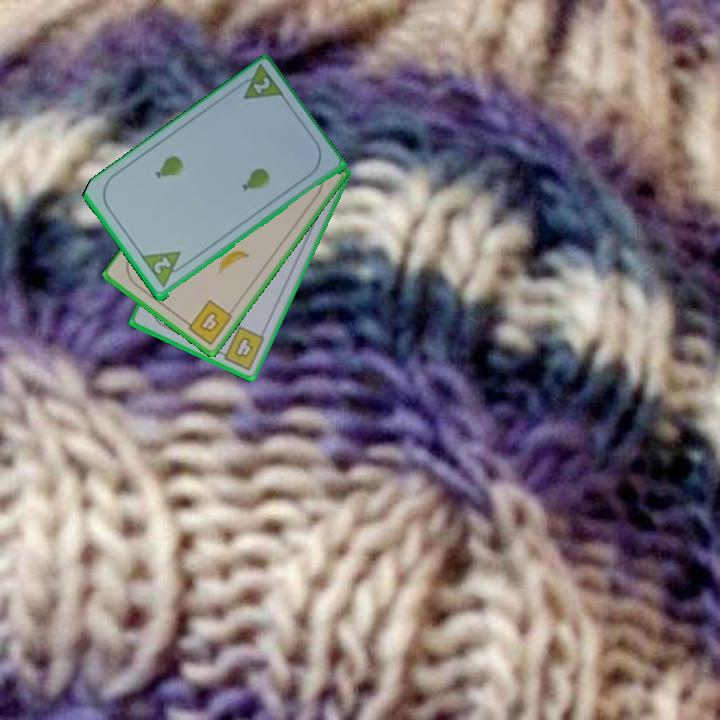2p: (232, 62, 287, 103), (150, 254, 174, 277)
4b: (180, 296, 235, 348), (214, 323, 268, 373)
